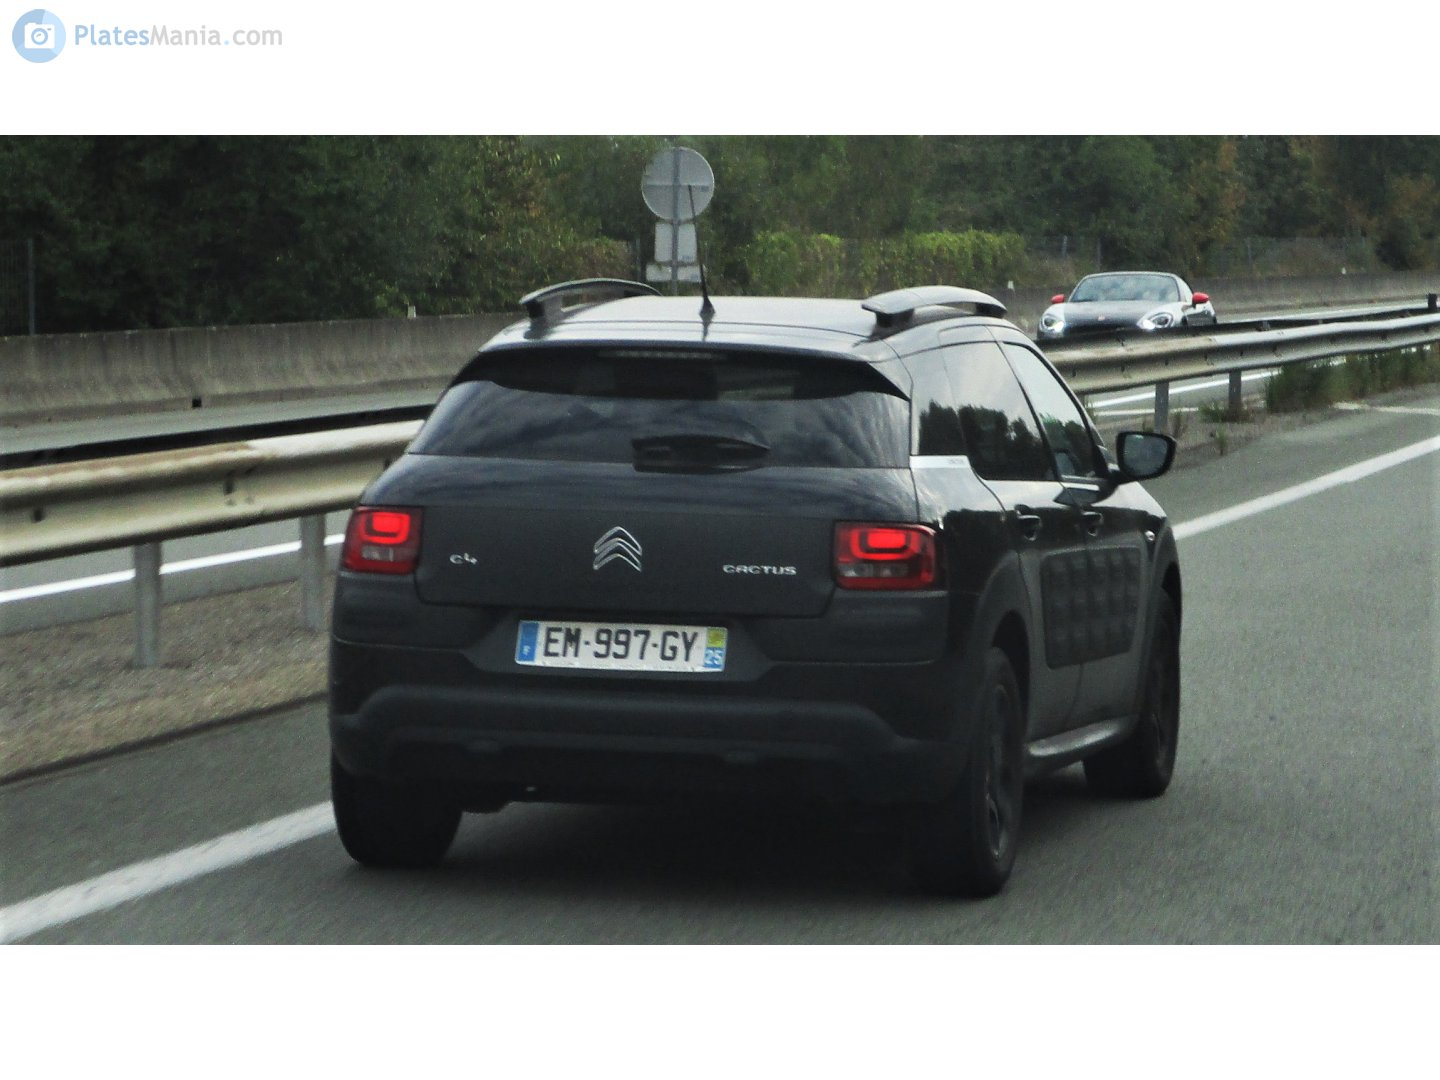licence plate: (509, 617, 730, 674)
